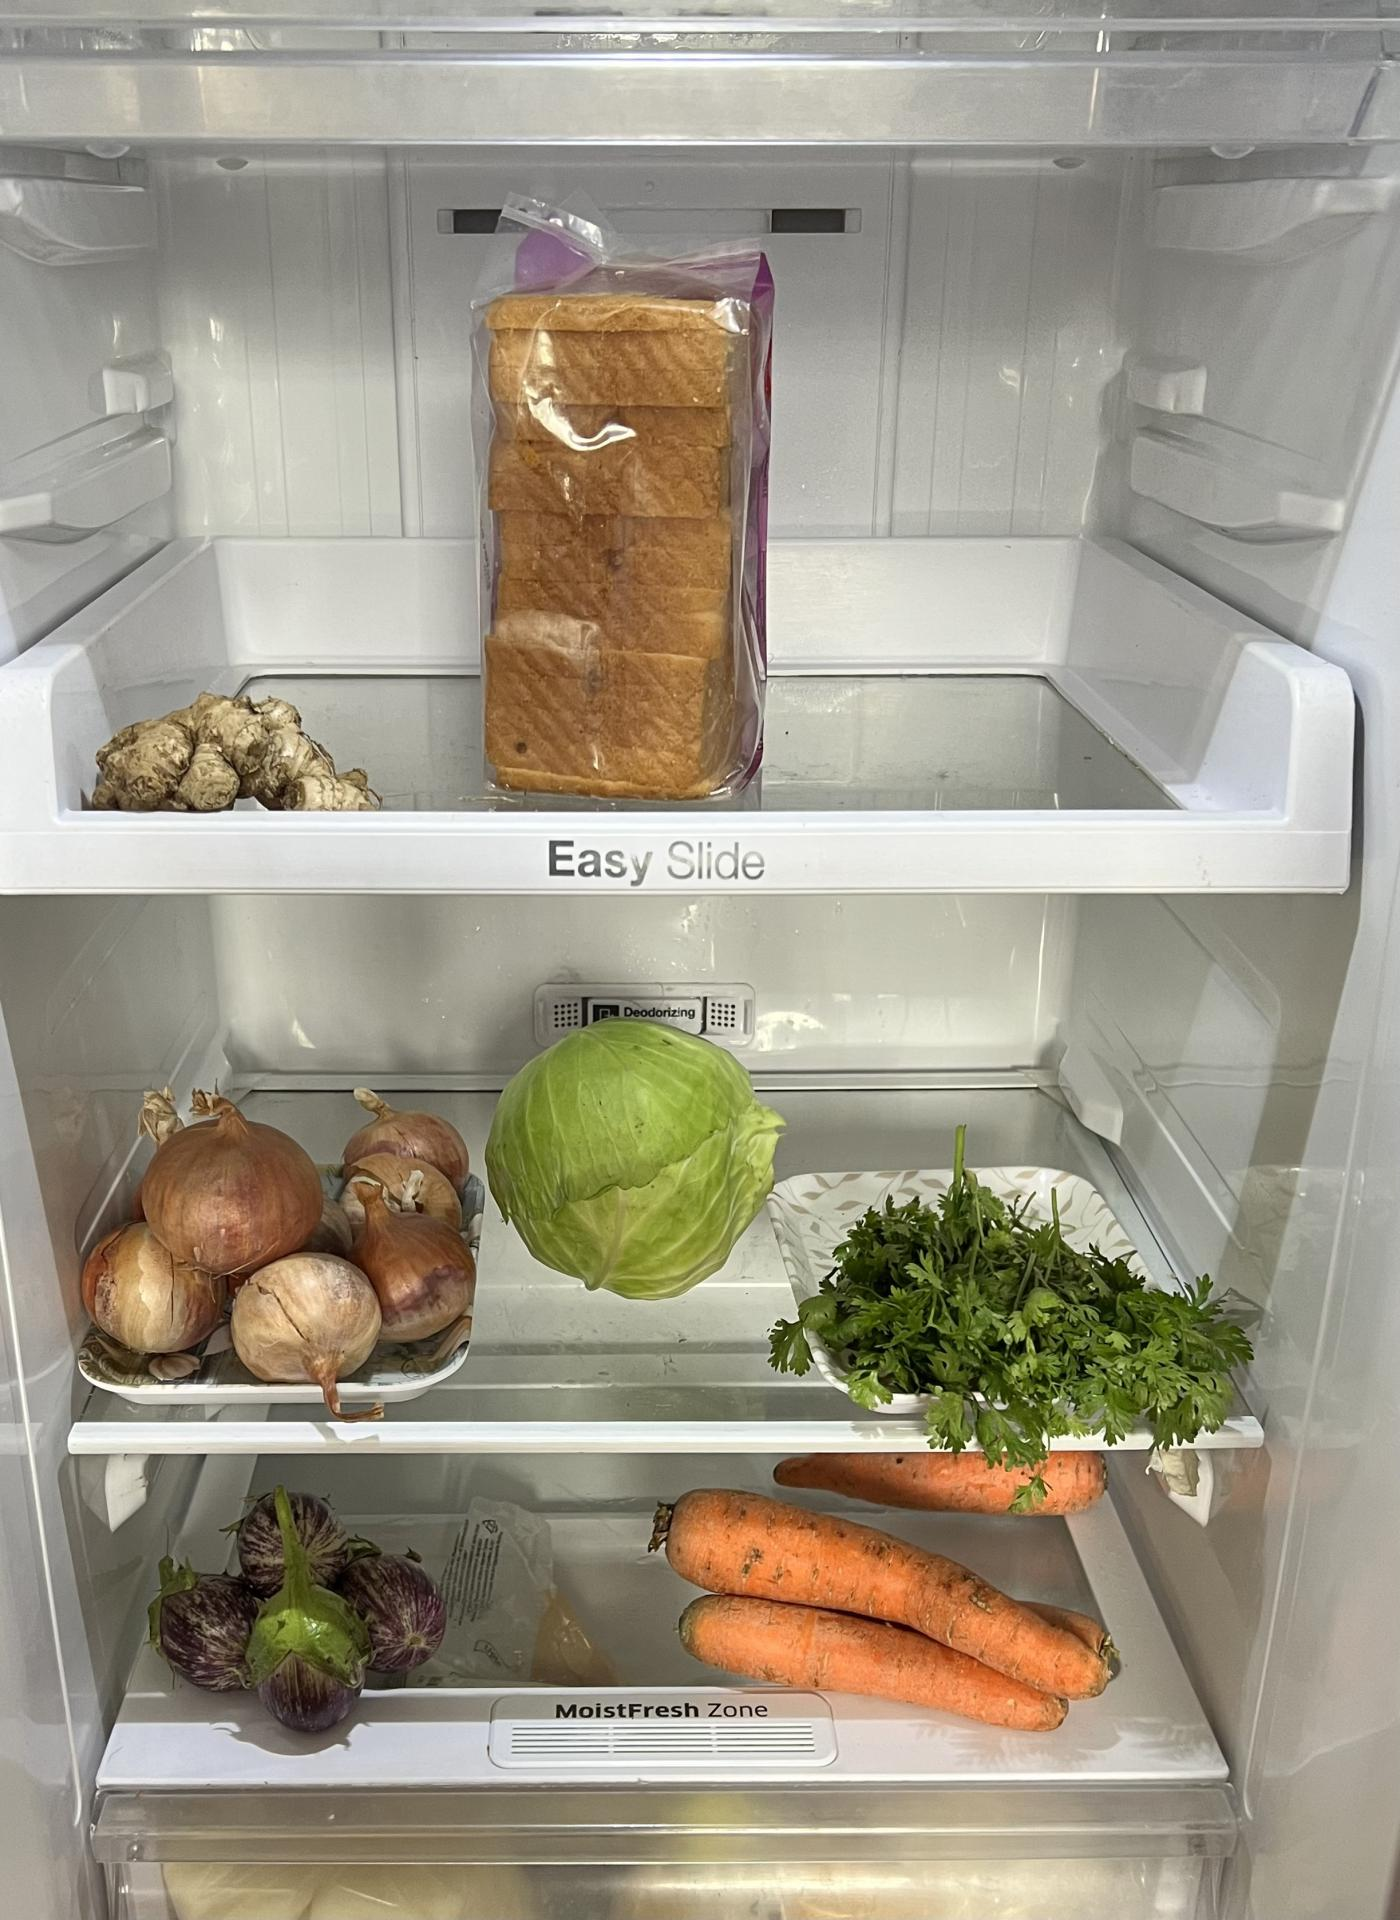bread: (464, 228, 798, 799)
cabbage: (489, 1015, 780, 1297)
carrots: (649, 1455, 1120, 1720)
coriander: (814, 1179, 1255, 1449)
ginger: (78, 680, 388, 818)
onion: (75, 1076, 477, 1385)
